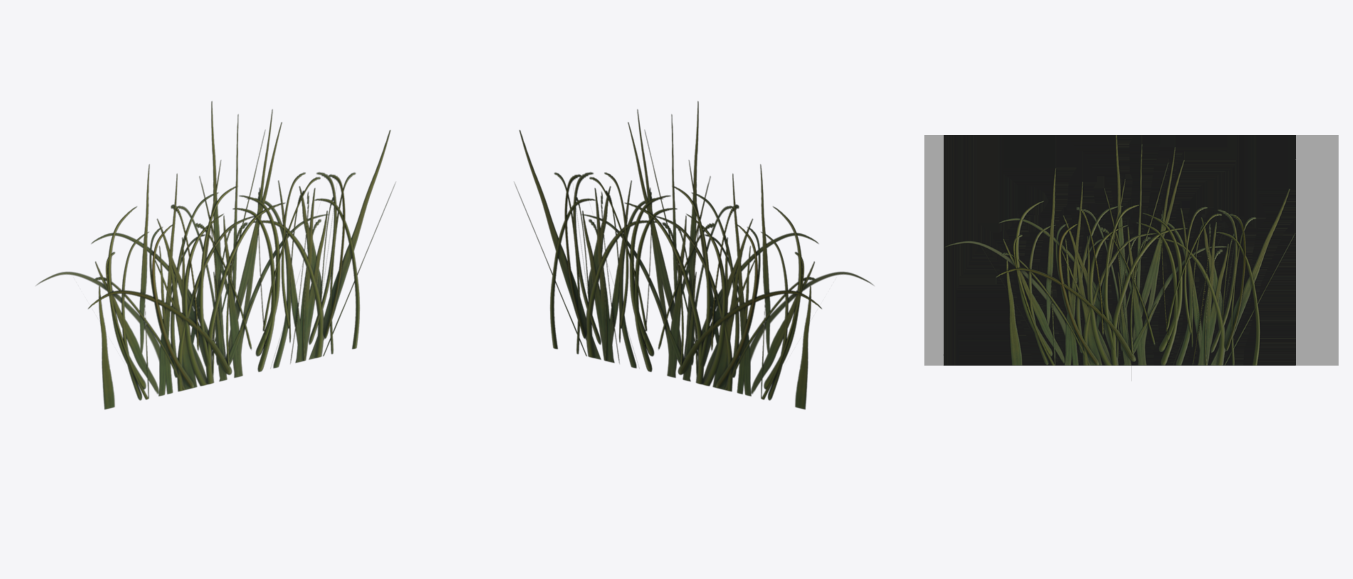
The model's file is grass.glb.
3 views of the same model, side by side, from view 1: azimuth 30°, elevation 25°; view 2: azimuth 150°, elevation 25°; view 3: azimuth 270°, elevation 25° (orthographic). The views are drawn at different scales.
Visible parts, largest first — view 1: grass_grass; view 2: grass_grass; view 3: grass_grass.
Part boxes in pixels (x1=…): grass_grass: x1=36, y1=101, x2=395, y2=409; grass_grass: x1=514, y1=101, x2=873, y2=409; grass_grass: x1=924, y1=135, x2=1338, y2=365.
Bounding box in the file's own units: 1 × 1 × 1.
2 materials, 2 textured.
